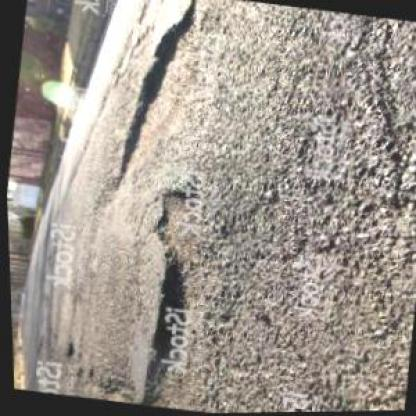pothole: (103, 0, 223, 197), (124, 179, 224, 412)
